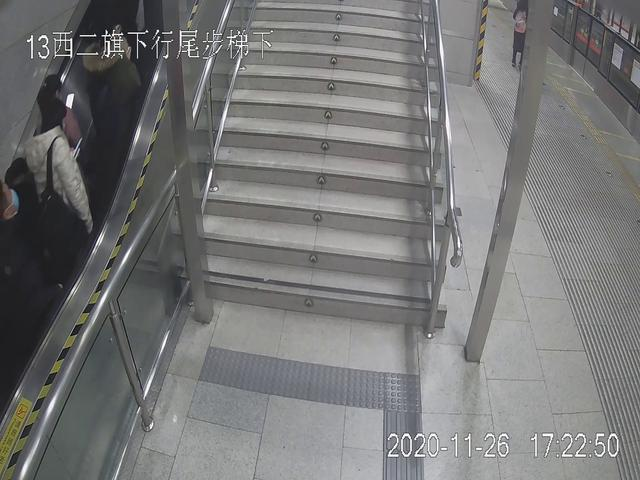person: (30, 94, 94, 260), (504, 2, 531, 74)
